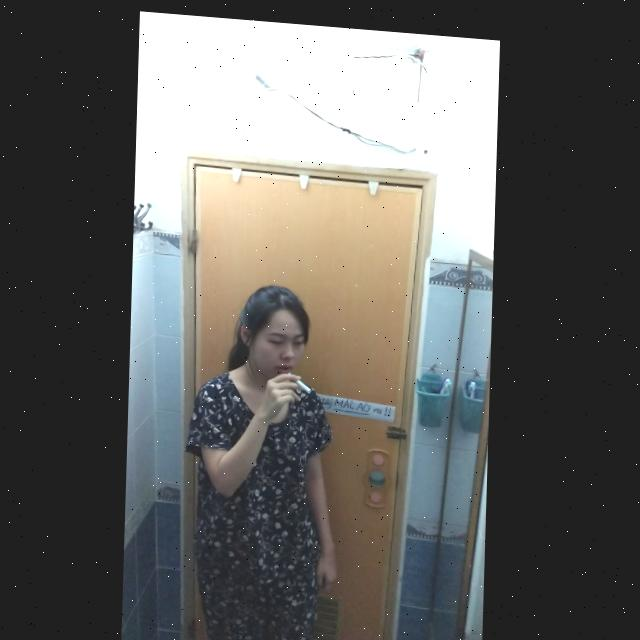cigarette: (289, 368, 314, 388)
